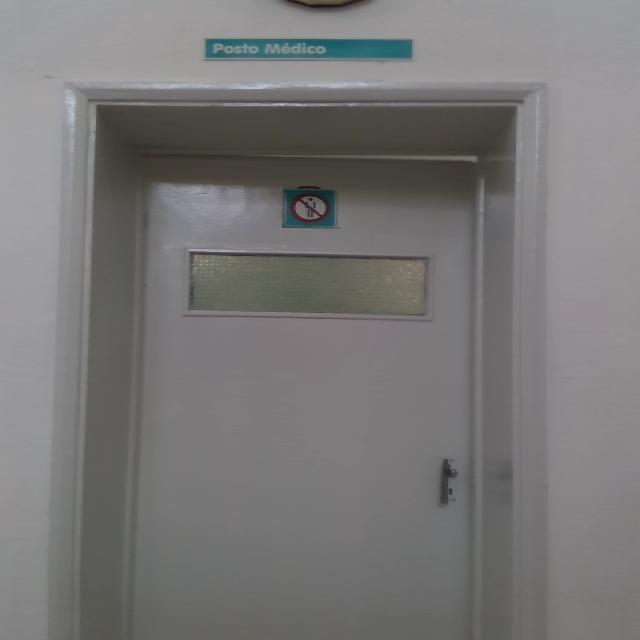door: (83, 80, 516, 640)
